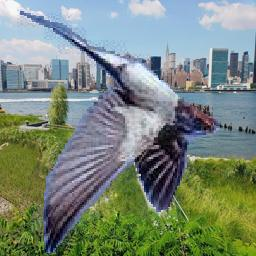Swallow: (14, 10, 221, 255)
